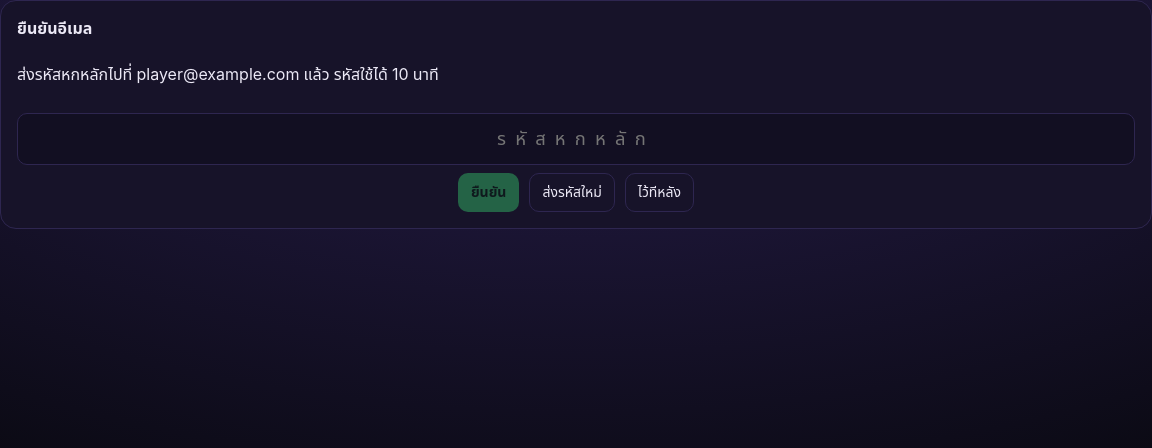
Test: ยืนยันไม่ได้จนกว่าจะครบหกหลัก
Expected: the button "ยืนยัน" is disabled, [458, 173, 519, 212]
Type "12345" into the field labelled "รหัสหกหลัก" at (576, 139), box [17, 113, 1135, 165]
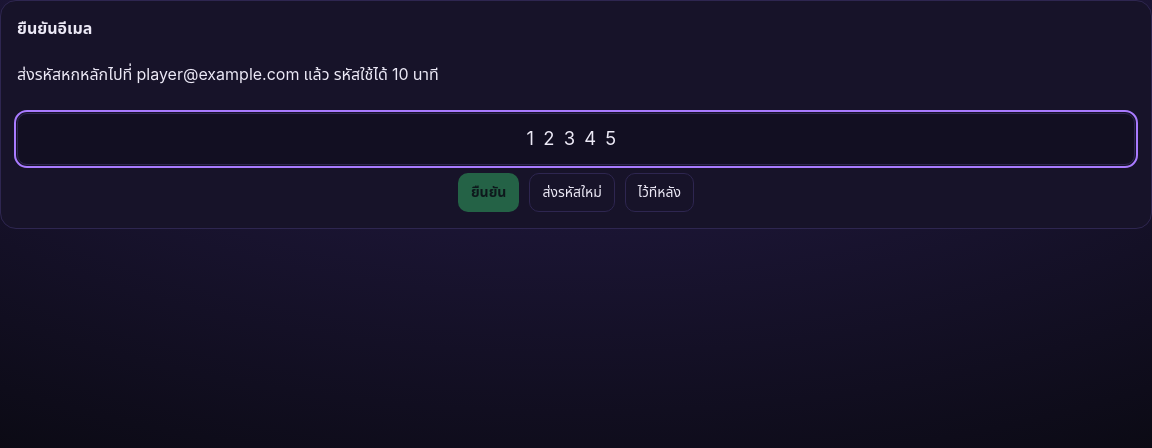
Expected: the button "ยืนยัน" is disabled, [458, 173, 519, 212]
Type "6" into the field named "รหัสหกหลัก" at (576, 139), box [17, 113, 1135, 165]
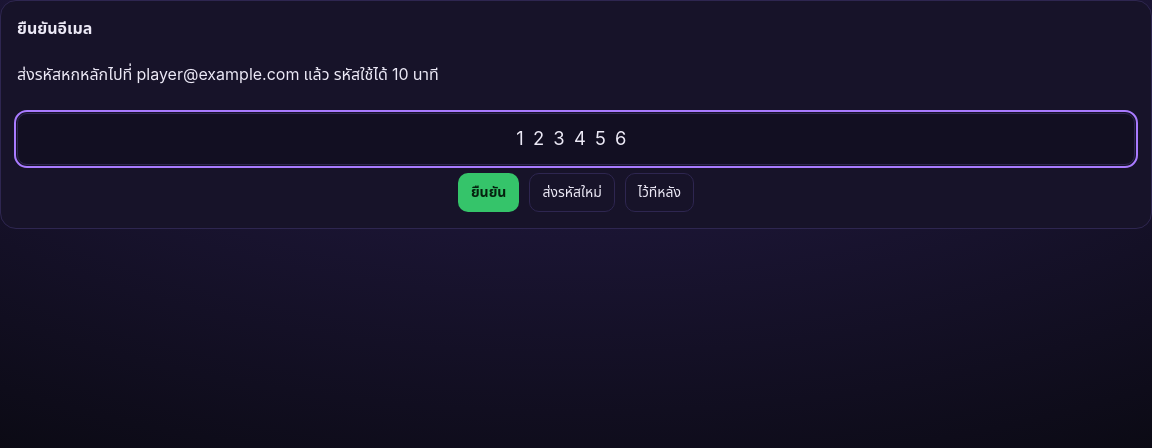
Now the button "ยืนยัน" is enabled, box [458, 173, 519, 212]
